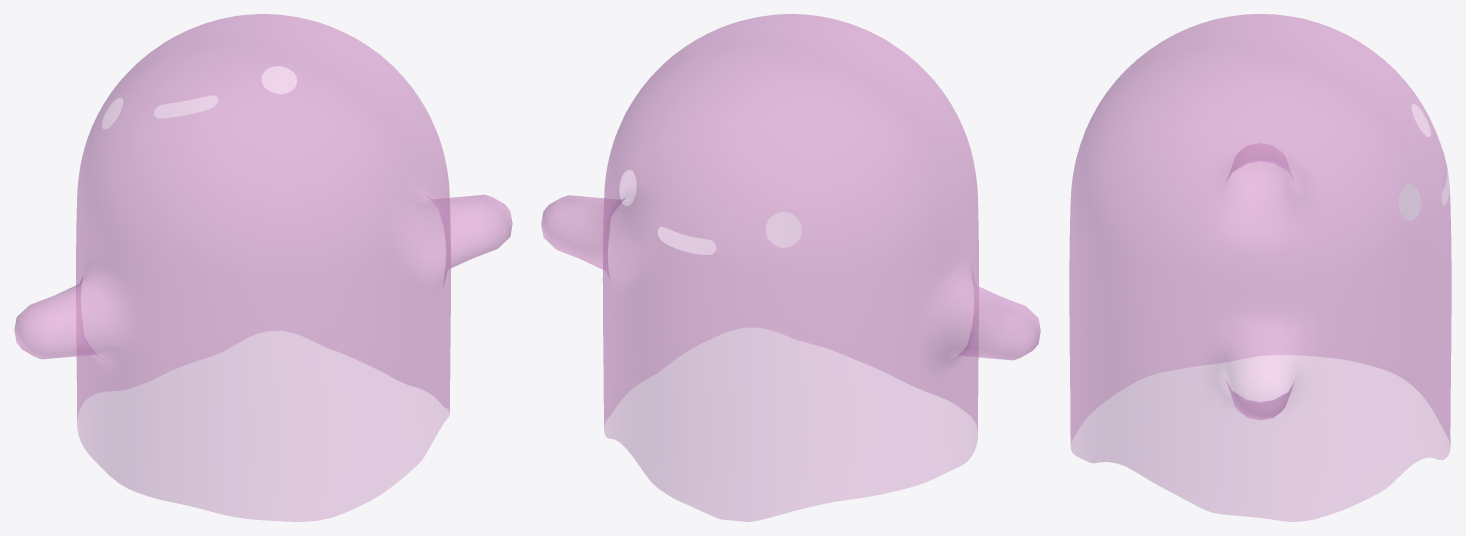
Rendered from ghost.fbx.
The picture shows the model from 3 angles, left to right: view 1: azimuth 30°, elevation 25°; view 2: azimuth 150°, elevation 25°; view 3: azimuth 270°, elevation 25°; orthographic projection.
Parts seen in each view (by area): view 1: Ghost; view 2: Ghost; view 3: Ghost.
Part boxes in pixels (x1,y1,x2,y2): Ghost: (14,14,512,521); Ghost: (541,14,1040,521); Ghost: (1069,14,1451,521).
Bounding box in the file's own units: 1.22 × 1 × 1.5.
